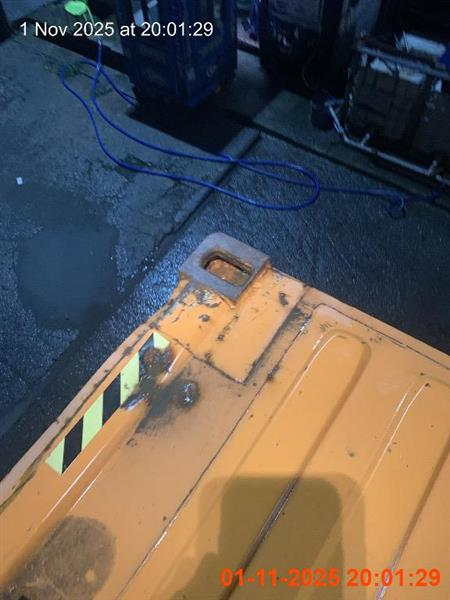bent: (0, 230, 448, 598), (113, 0, 238, 115)
